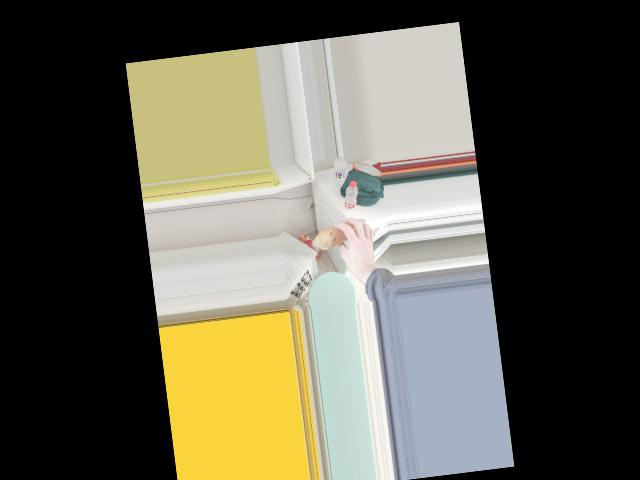sweet_potato: (311, 216, 371, 249)
